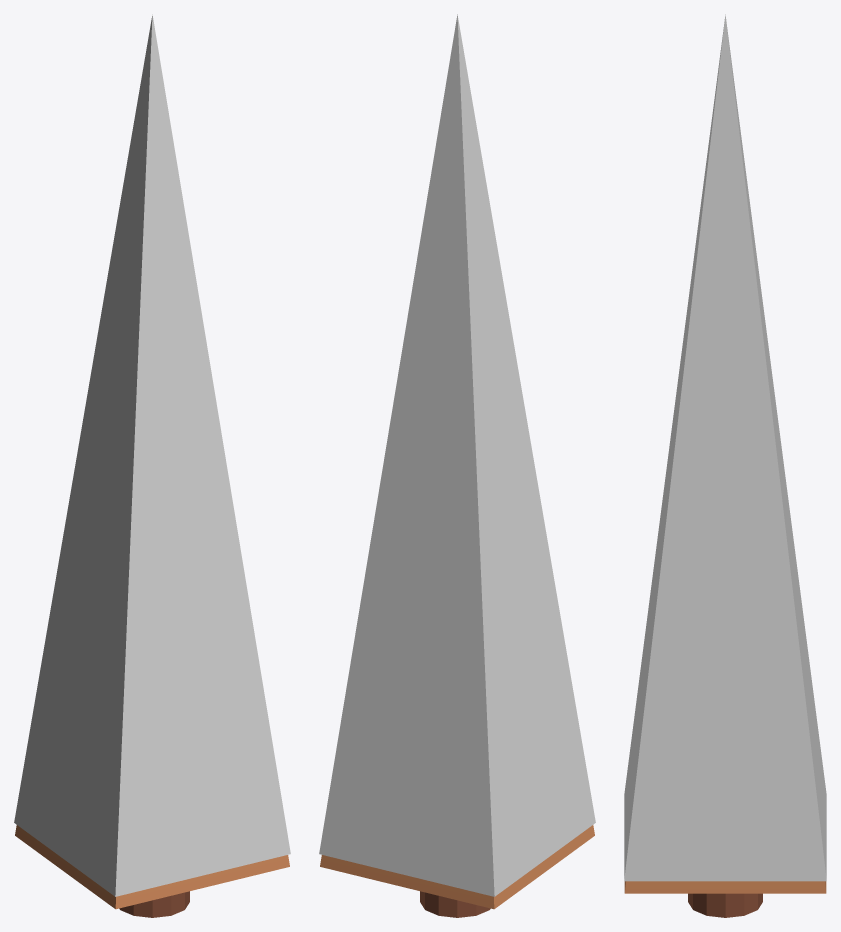
Rendered from Tree_19_winter_gradient_yellow.fbx.
The picture shows the model from 3 angles, left to right: view 1: azimuth 30°, elevation 25°; view 2: azimuth 150°, elevation 25°; view 3: azimuth 270°, elevation 25°; orthographic projection.
Parts seen in each view (by area): view 1: Tree_19_winter_gradient_yellow; view 2: Tree_19_winter_gradient_yellow; view 3: Tree_19_winter_gradient_yellow.
Part boxes in pixels (x1,y1,x2,y2): Tree_19_winter_gradient_yellow: [14, 14, 290, 917]; Tree_19_winter_gradient_yellow: [319, 14, 595, 917]; Tree_19_winter_gradient_yellow: [624, 14, 826, 917].
Size of the model in its own units: 60.03 by 290 by 60.03.
